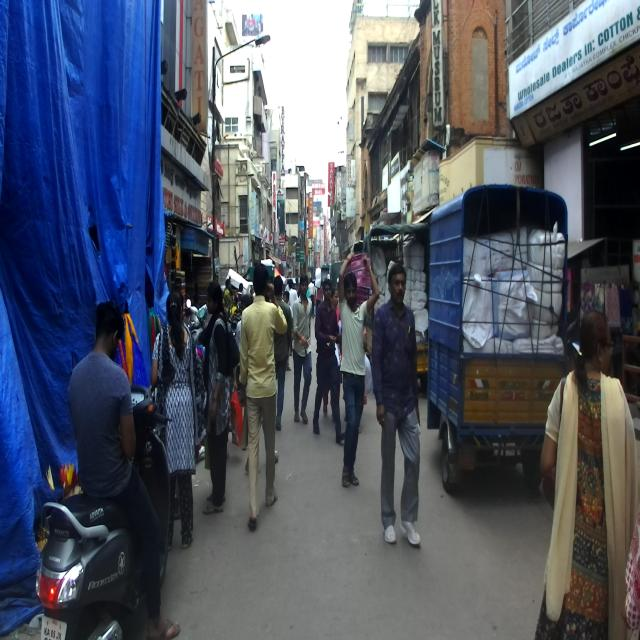motorcycle ahead at: (28, 484, 180, 640)
person ahead at: (540, 318, 625, 640), (369, 262, 424, 562), (236, 266, 285, 530)
